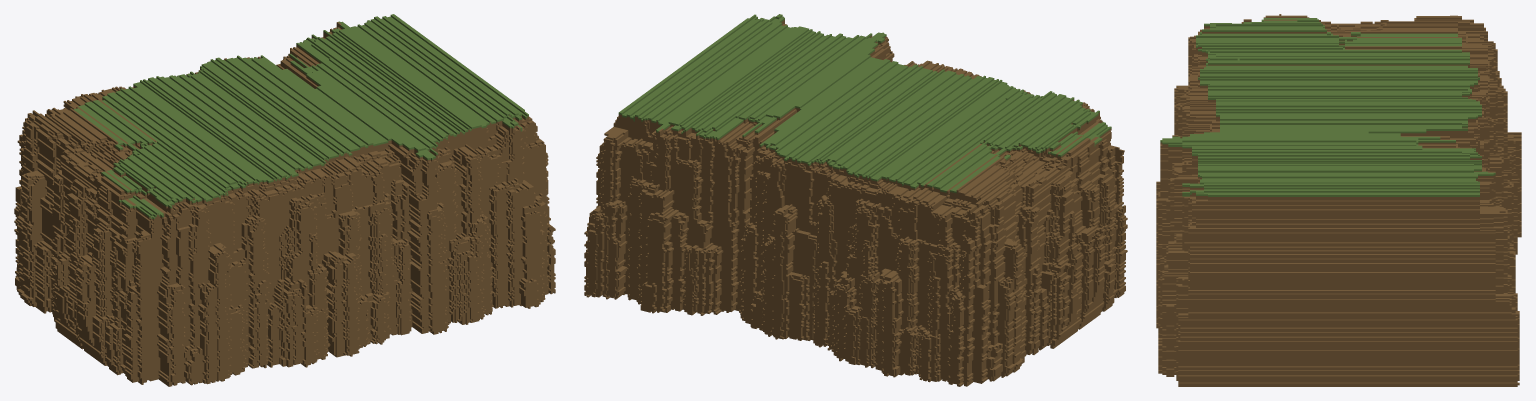
The model's file is forest1.4-176.obj.
3 views of the same model, side by side, from view 1: azimuth 30°, elevation 25°; view 2: azimuth 150°, elevation 25°; view 3: azimuth 270°, elevation 25° (orthographic). The views are drawn at different scales.
Size of the model in its own units: 25.4 by 10.7 by 18.4.
Materials: 1 (1 with a texture image).
